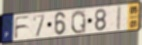6: (54, 11, 68, 36)
7: (33, 13, 46, 38)
8: (94, 8, 108, 33)
F: (14, 14, 32, 40)
I: (115, 4, 123, 32)
Q: (71, 9, 87, 35)
